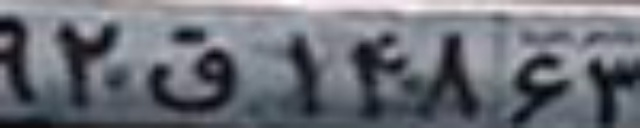1: (280, 33, 325, 117)
2: (55, 19, 121, 108)
3: (587, 54, 639, 125)
4: (351, 31, 407, 120)
6: (506, 52, 572, 124)
8: (416, 29, 481, 121)
9: (1, 13, 40, 105)
ghaf: (142, 26, 241, 112)
